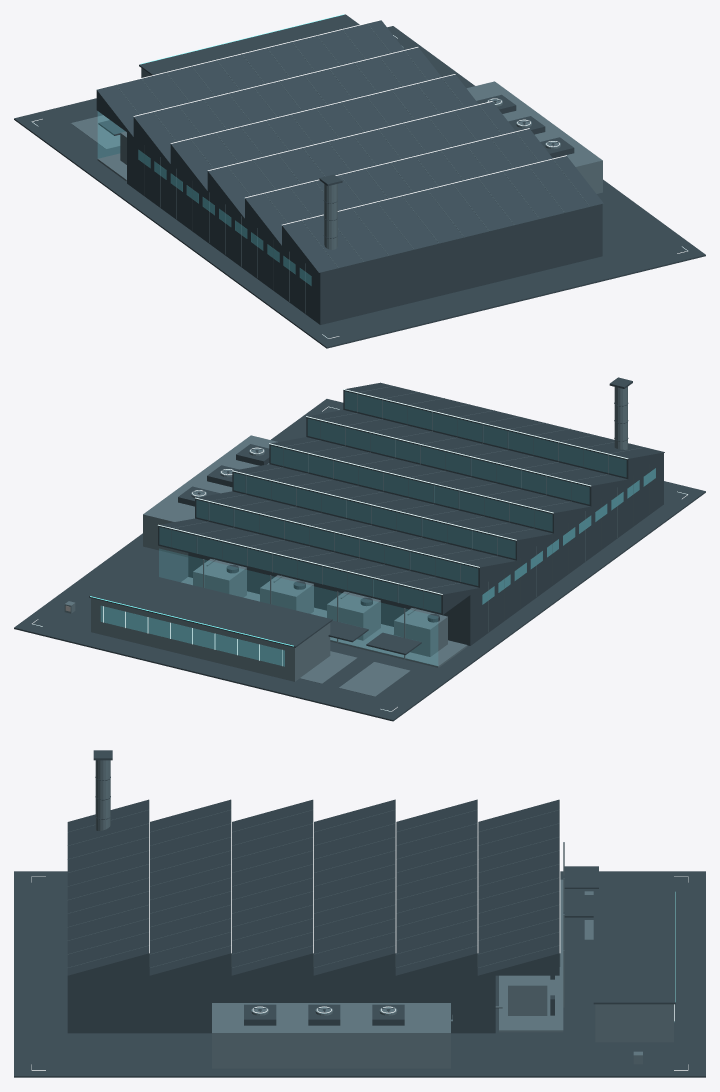
File: factory_industrial_facility.glb
The picture shows the model from 3 angles, top to bottom: view 1: azimuth 30°, elevation 25°; view 2: azimuth 150°, elevation 25°; view 3: azimuth 270°, elevation 25°; orthographic projection. The views are drawn at different scales.
Parts seen in each view (by area): view 1: factory_industrial_facility_graphite, factory_industrial_facility_graphite_light, factory_industrial_facility_white, factory_industrial_facility_glass; view 2: factory_industrial_facility_graphite, factory_industrial_facility_glass, factory_industrial_facility_graphite_light, factory_industrial_facility_white; view 3: factory_industrial_facility_graphite, factory_industrial_facility_graphite_light, factory_industrial_facility_white.
Boxes of the visible parts, box(x1,y1,x2,y2) form: factory_industrial_facility_graphite: box(14, 14, 705, 348); factory_industrial_facility_graphite_light: box(71, 23, 602, 313); factory_industrial_facility_white: box(31, 19, 687, 338); factory_industrial_facility_glass: box(98, 112, 311, 285); factory_industrial_facility_graphite: box(14, 377, 705, 721); factory_industrial_facility_glass: box(101, 392, 655, 666); factory_industrial_facility_graphite_light: box(64, 386, 649, 696); factory_industrial_facility_white: box(32, 389, 687, 711); factory_industrial_facility_graphite: box(14, 750, 705, 1077); factory_industrial_facility_graphite_light: box(67, 760, 673, 1068); factory_industrial_facility_white: box(31, 799, 688, 1070).
Size of the model in its own units: 136 by 44.12 by 194.
